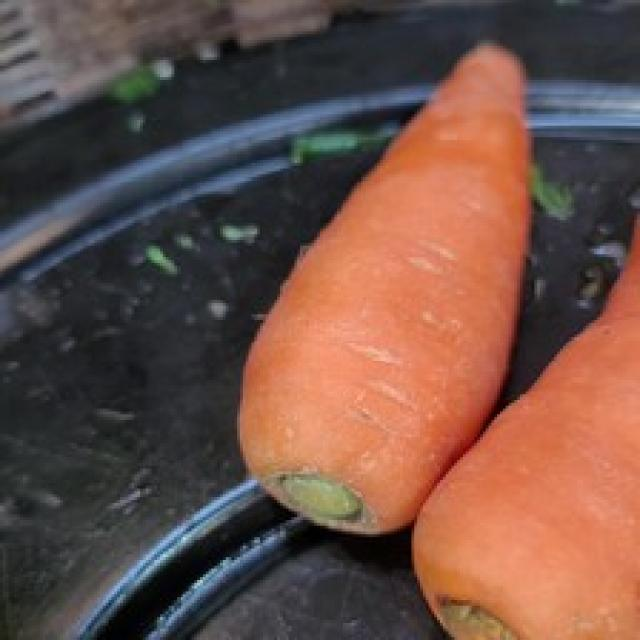carrot: (240, 44, 531, 538), (413, 215, 640, 632)
